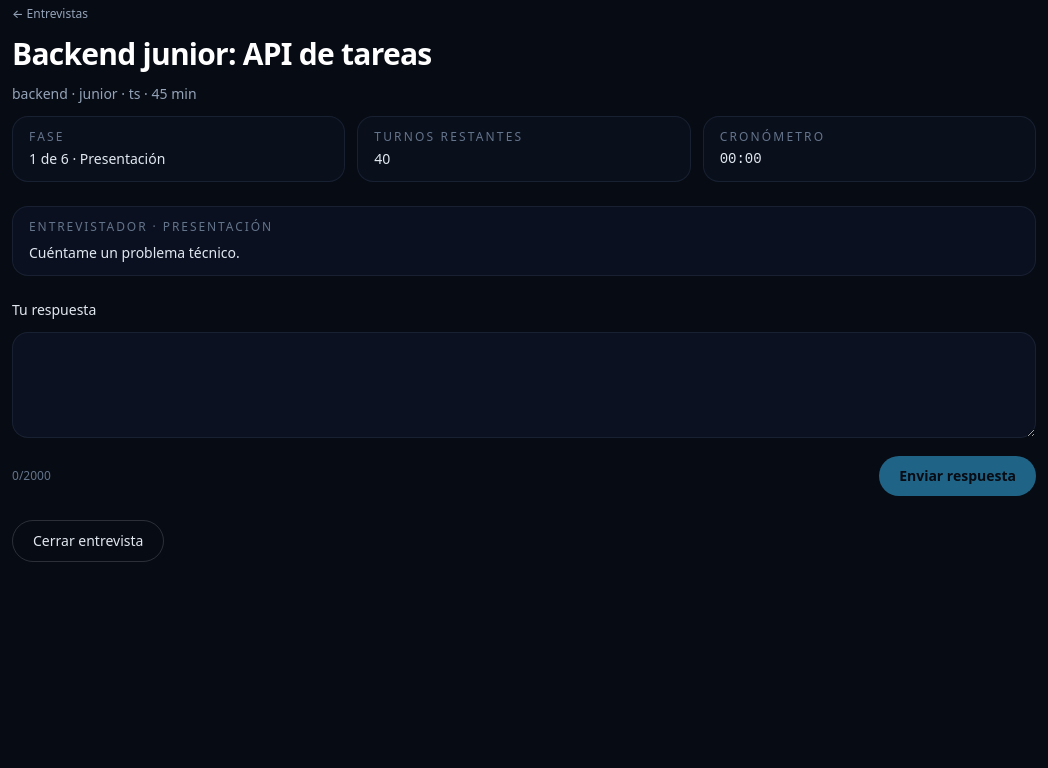
InterviewRoom › cierre con confirmación y enlace al informe
The width and height of the screenshot is (1048, 768).
Click the button "Cerrar entrevista" at x=88, y=541, box x1=12 y1=520 x2=164 y2=562
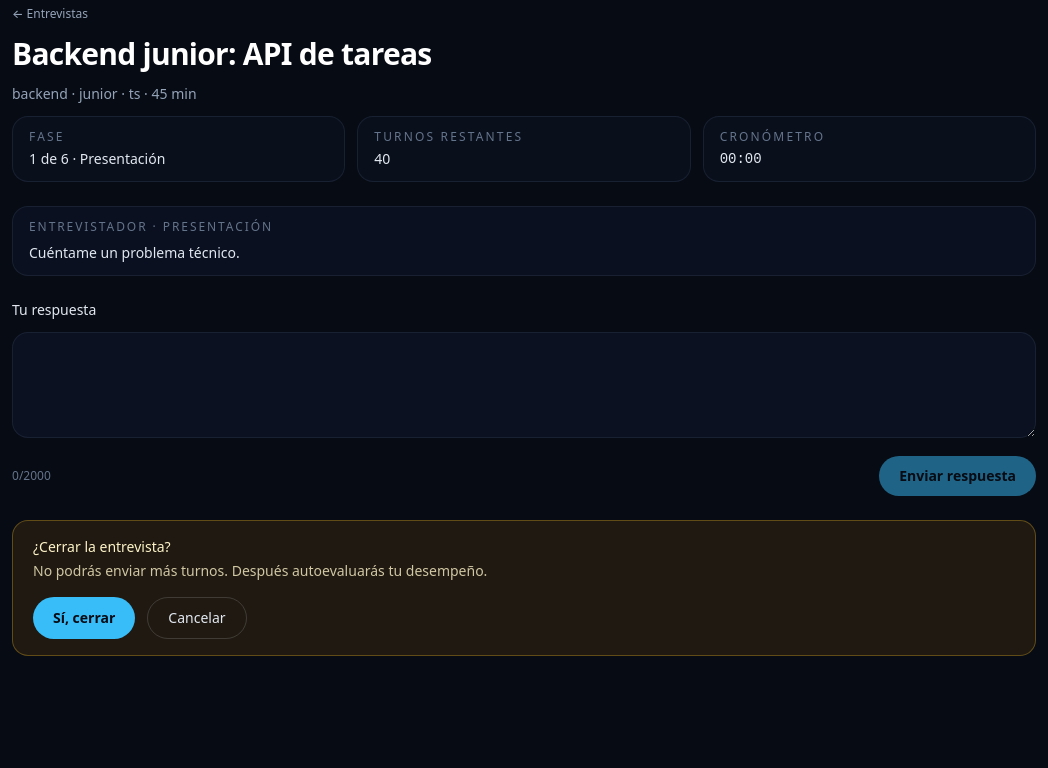
Result: the text "¿Cerrar la entrevista?" is shown at x1=33 y1=537 x2=171 y2=556
Click the button "Cancelar" at x=197, y=618, box x1=147 y1=597 x2=246 y2=639
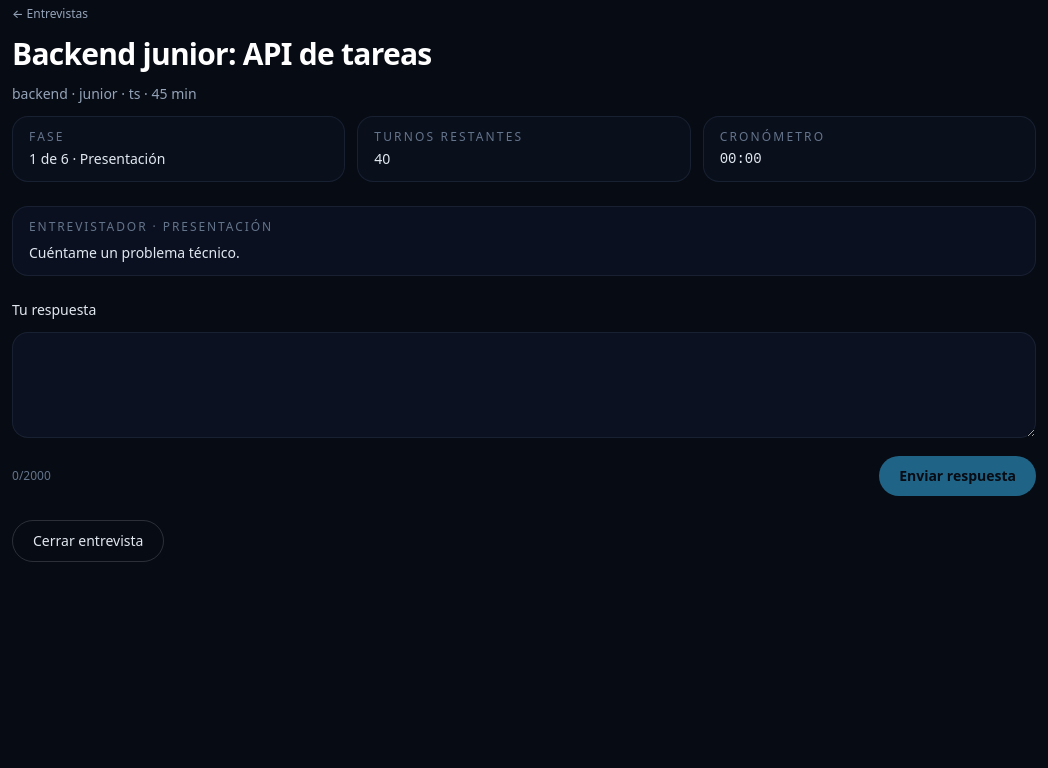
Result: the text "¿Cerrar la entrevista?" is gone
Click the button "Cerrar entrevista" at x=88, y=541, box x1=12 y1=520 x2=164 y2=562
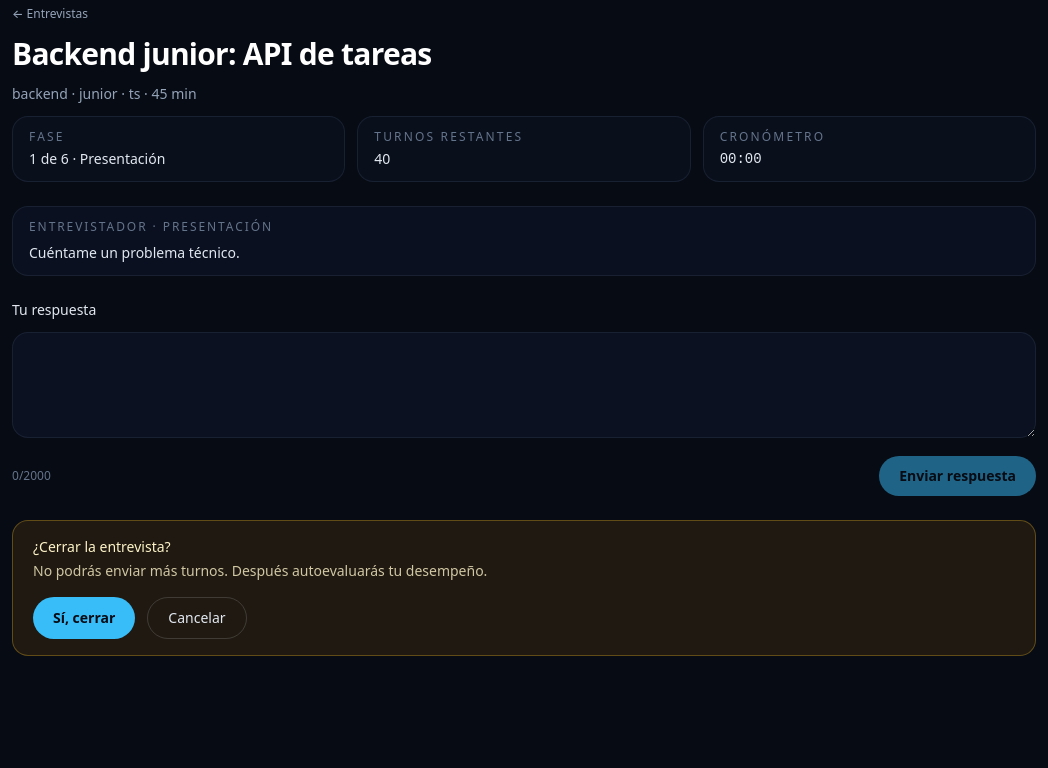
Click the button "Sí, cerrar" at x=84, y=618, box x1=33 y1=597 x2=135 y2=639
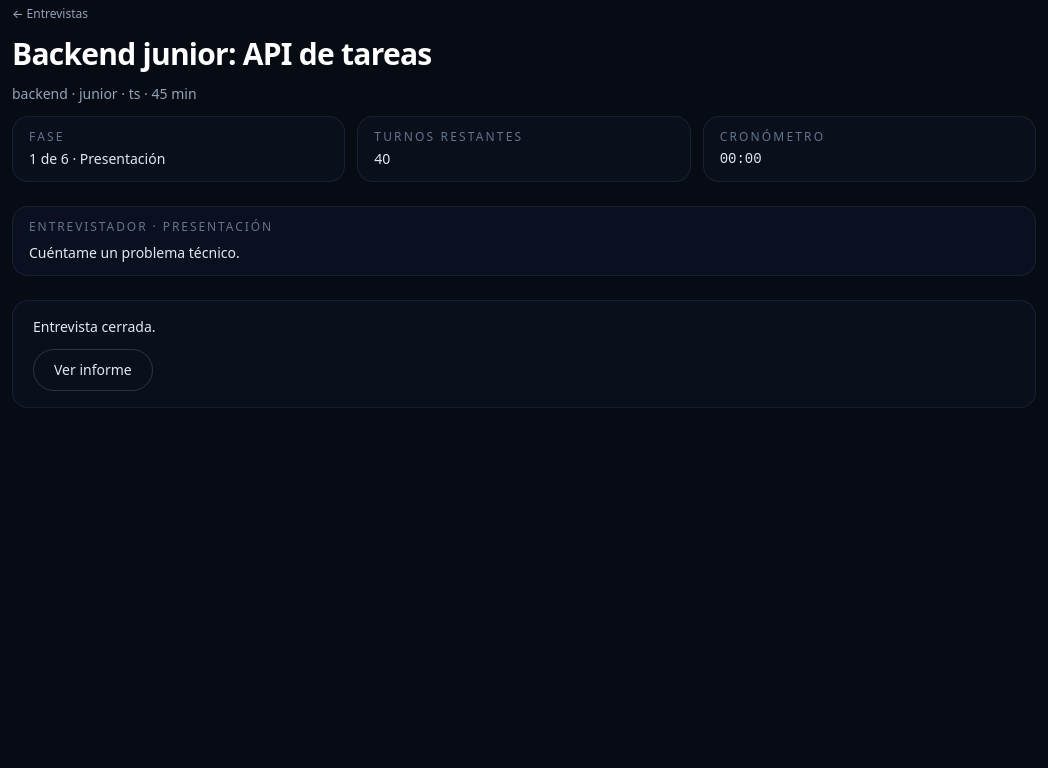
Result: the text "Entrevista cerrada." is shown at x1=33 y1=317 x2=156 y2=336
Result: the label labelled "Tu respuesta" is gone
